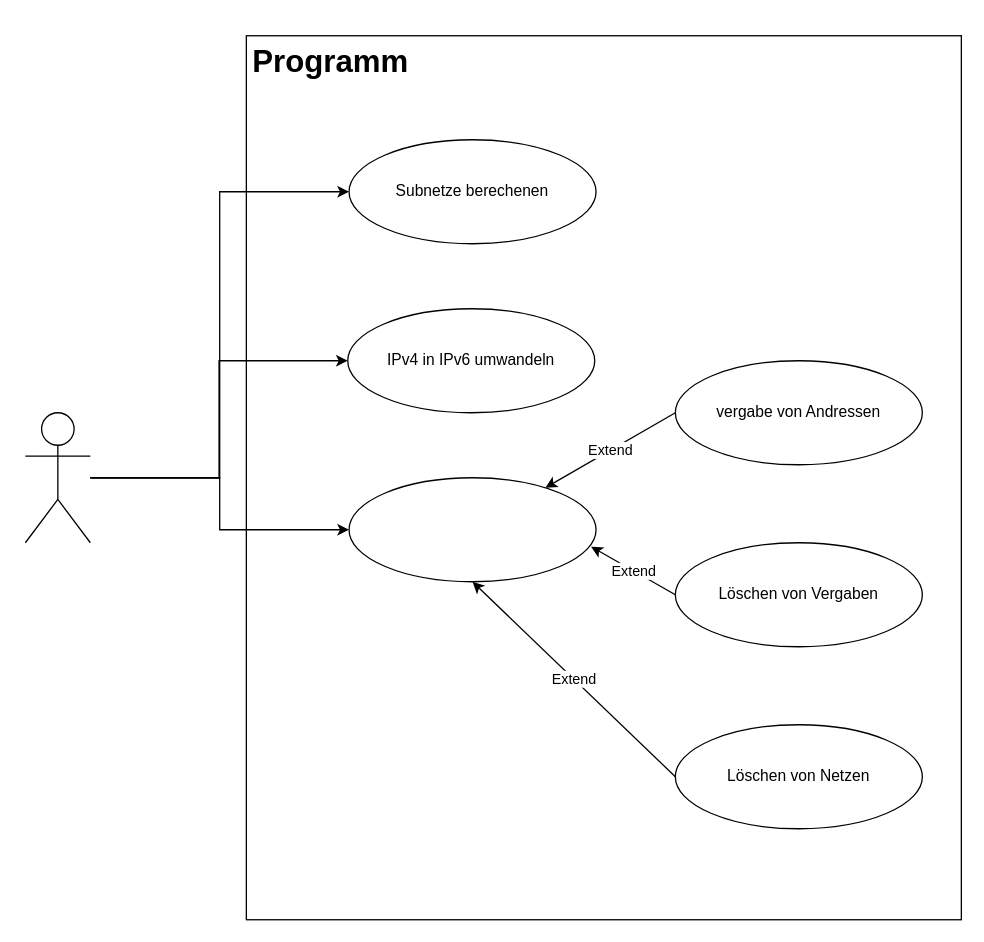
The diagram is 984 pixels wide and 942 high, and some of its shapes have lost their labels. The shapes that lost their labels are listed below. From the top down, each one's centre as x and y in pixels, then its label:
At point (57, 477): "Anwender".
At point (472, 529): "Anlegen von IPv4-Netzeb".
